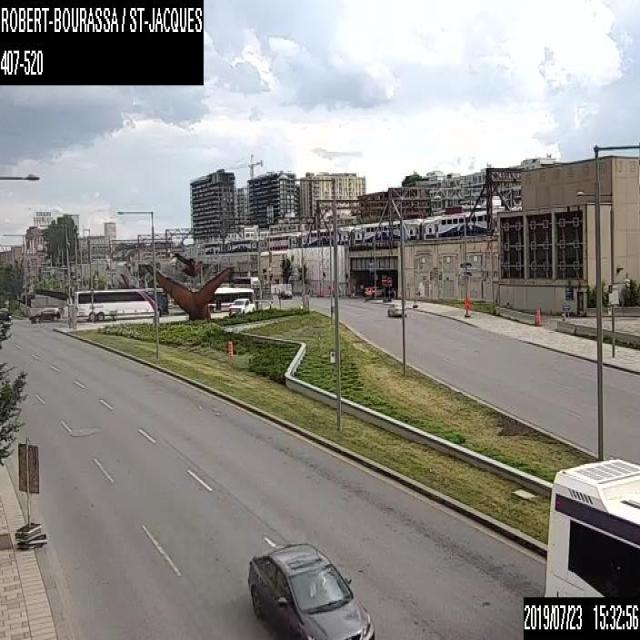bus: (542, 454, 639, 594), (68, 284, 168, 323), (209, 286, 256, 314)
construction: (463, 298, 471, 318), (534, 307, 541, 325), (225, 339, 232, 357)
vehicle: (246, 538, 374, 638), (26, 304, 62, 323), (229, 297, 254, 316), (386, 300, 408, 319), (277, 289, 291, 299), (154, 284, 154, 285)
